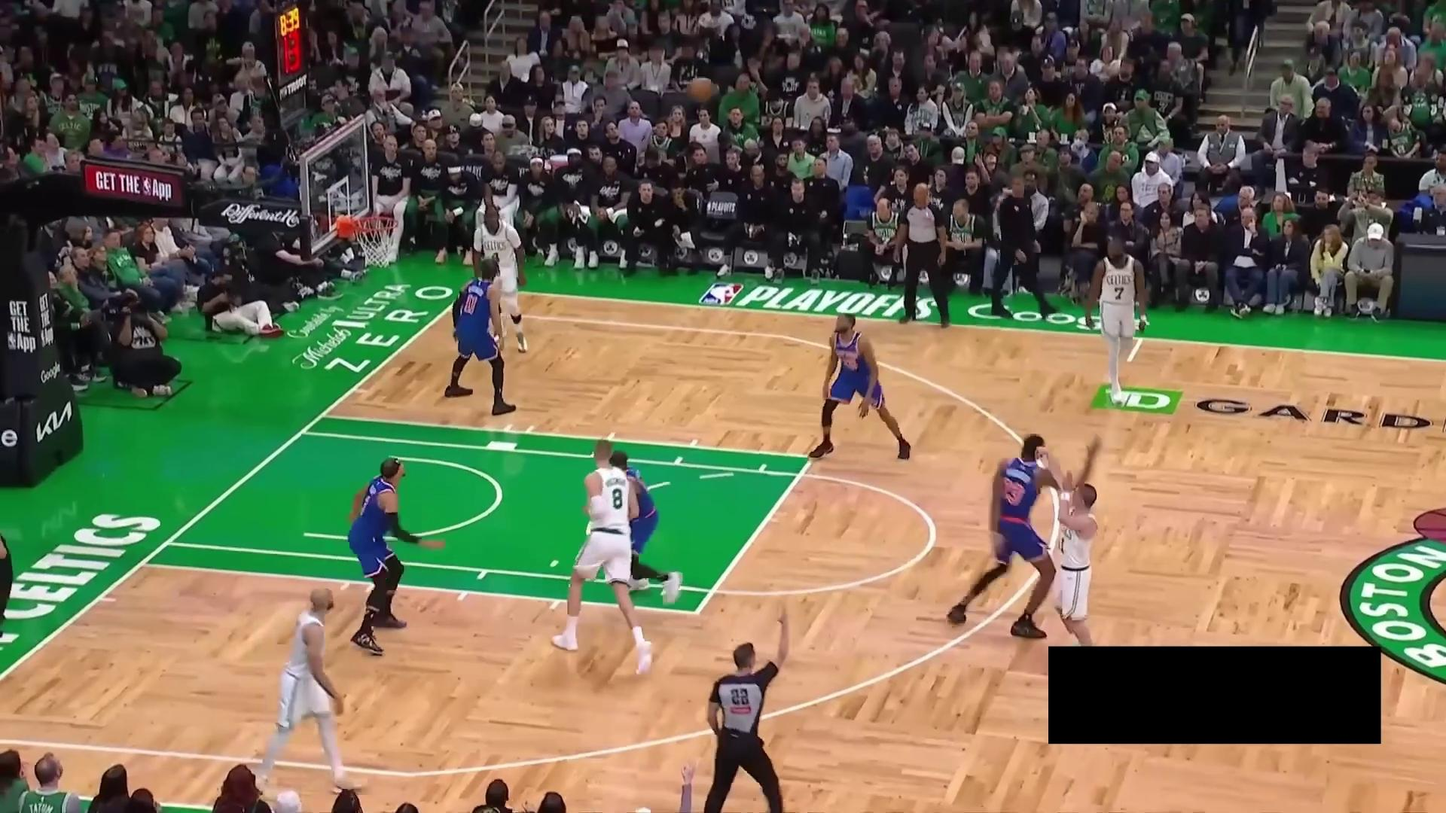ball: (690, 78, 713, 101)
number: (1000, 476, 1024, 506), (462, 293, 478, 317), (609, 487, 624, 512), (1113, 284, 1125, 299), (491, 250, 501, 262)
player: (946, 432, 1103, 640), (549, 433, 655, 677), (253, 586, 365, 793), (347, 458, 446, 657), (807, 312, 912, 462), (602, 449, 687, 606), (1034, 445, 1100, 646), (444, 257, 516, 416), (1084, 235, 1148, 406), (471, 203, 534, 356)
referee: (700, 599, 791, 813), (893, 183, 951, 329)
rim: (352, 215, 399, 234)
